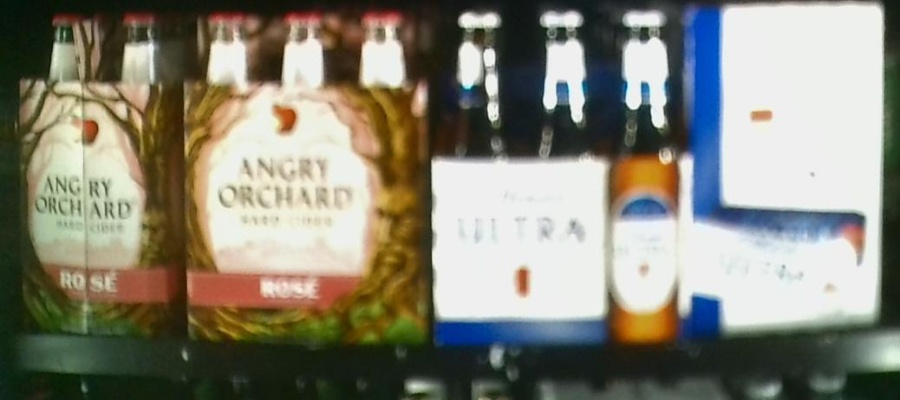bottle: (434, 1, 681, 343), (187, 10, 431, 341), (680, 4, 884, 333), (16, 12, 185, 338)
